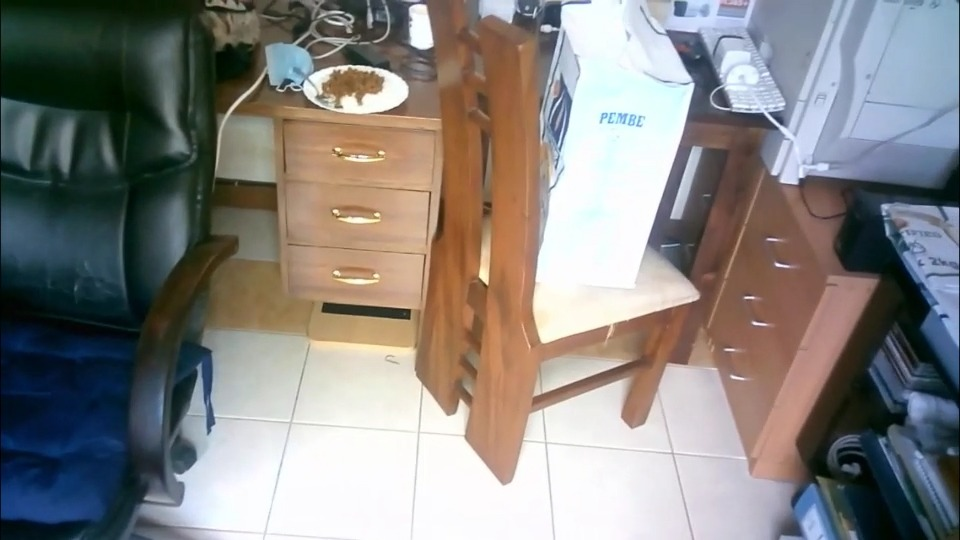wheat_flour_blue_label: (542, 4, 695, 288)
